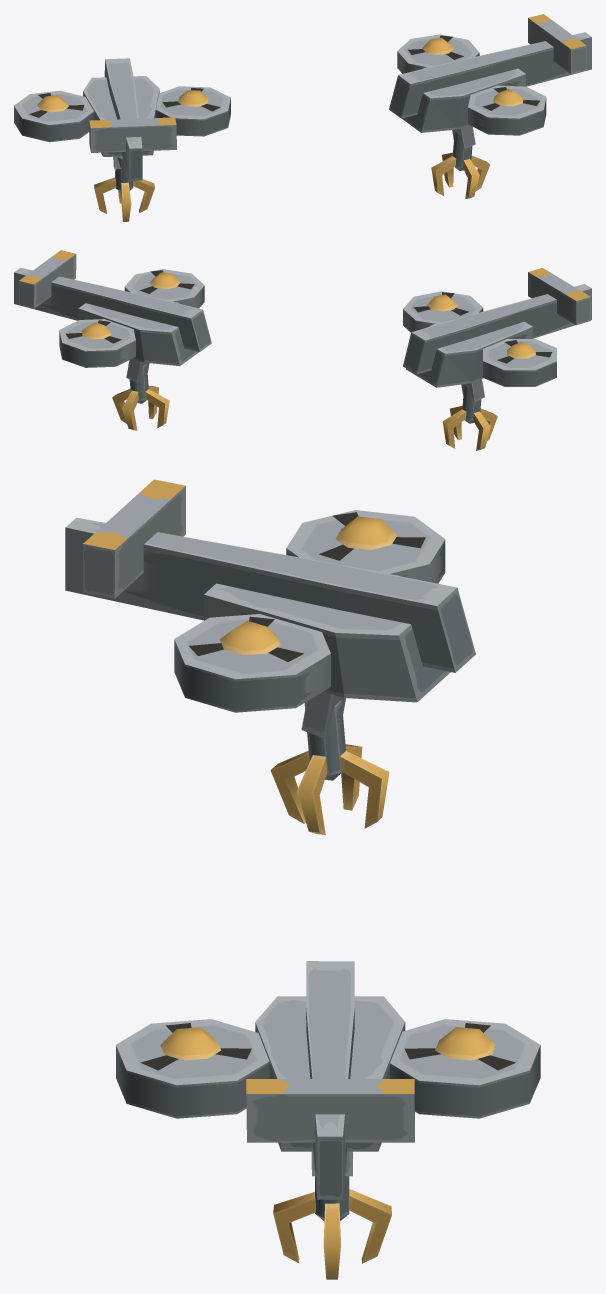
Rendered from UAV.FBX.
3 views of the same model, one above another, from view 1: azimuth 30°, elevation 25°; view 2: azimuth 150°, elevation 25°; view 3: azimuth 270°, elevation 25° (orthographic). The views are drawn at different scales.
Parts seen in each view (by area): view 1: 1, 2, 1_a, 2_a; view 2: 1, 2, 1_a, 2_a; view 3: 2, 1, 2_a, 1_a.
Part boxes in pixels (<box>): 1: <box>389,14,591,135</box>; 2: <box>14,58,230,180</box>; 1_a: <box>431,125,490,198</box>; 2_a: <box>94,156,154,221</box>; 1: <box>14,250,211,367</box>; 2: <box>403,268,591,387</box>; 1_a: <box>112,358,169,430</box>; 2_a: <box>442,379,497,450</box>; 2: <box>65,479,475,712</box>; 1: <box>116,961,540,1199</box>; 2_a: <box>270,692,389,834</box>; 1_a: <box>273,1151,391,1279</box>.
Bounding box in the file's own units: 114 × 42.91 × 39.17.
